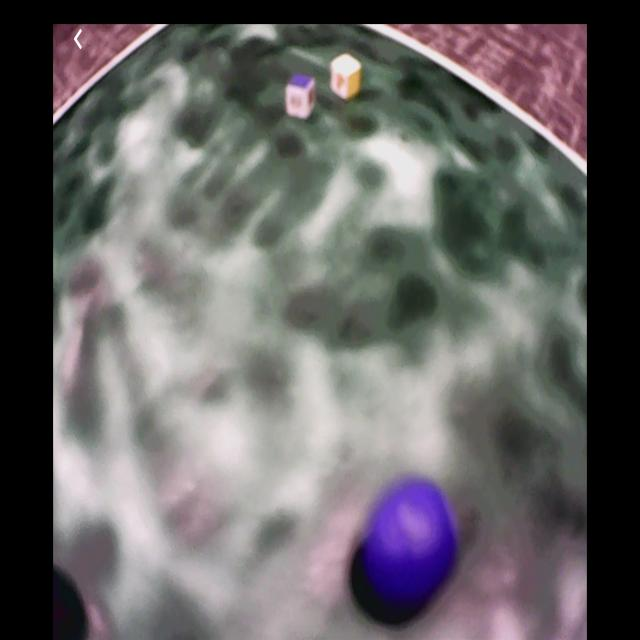ball: (367, 481, 456, 607)
